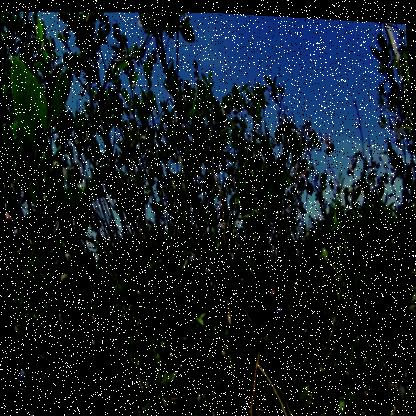intermediate: (5, 210, 14, 239), (269, 284, 279, 302)
mature: (15, 368, 31, 390), (11, 225, 26, 248), (187, 249, 199, 266), (219, 257, 230, 270)
young: (58, 270, 71, 292), (51, 159, 62, 179), (63, 250, 74, 267), (329, 309, 338, 327)
